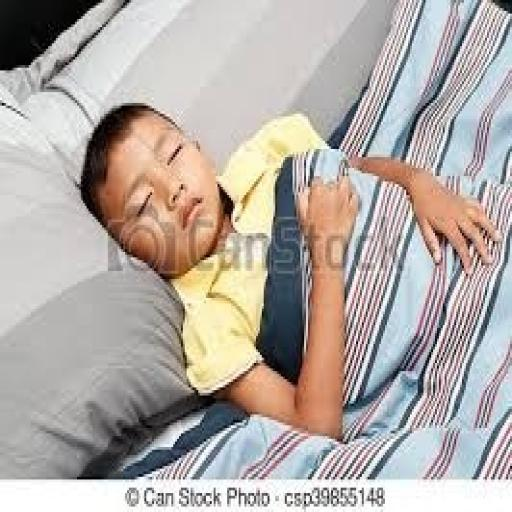sleeping: (77, 98, 502, 442)
